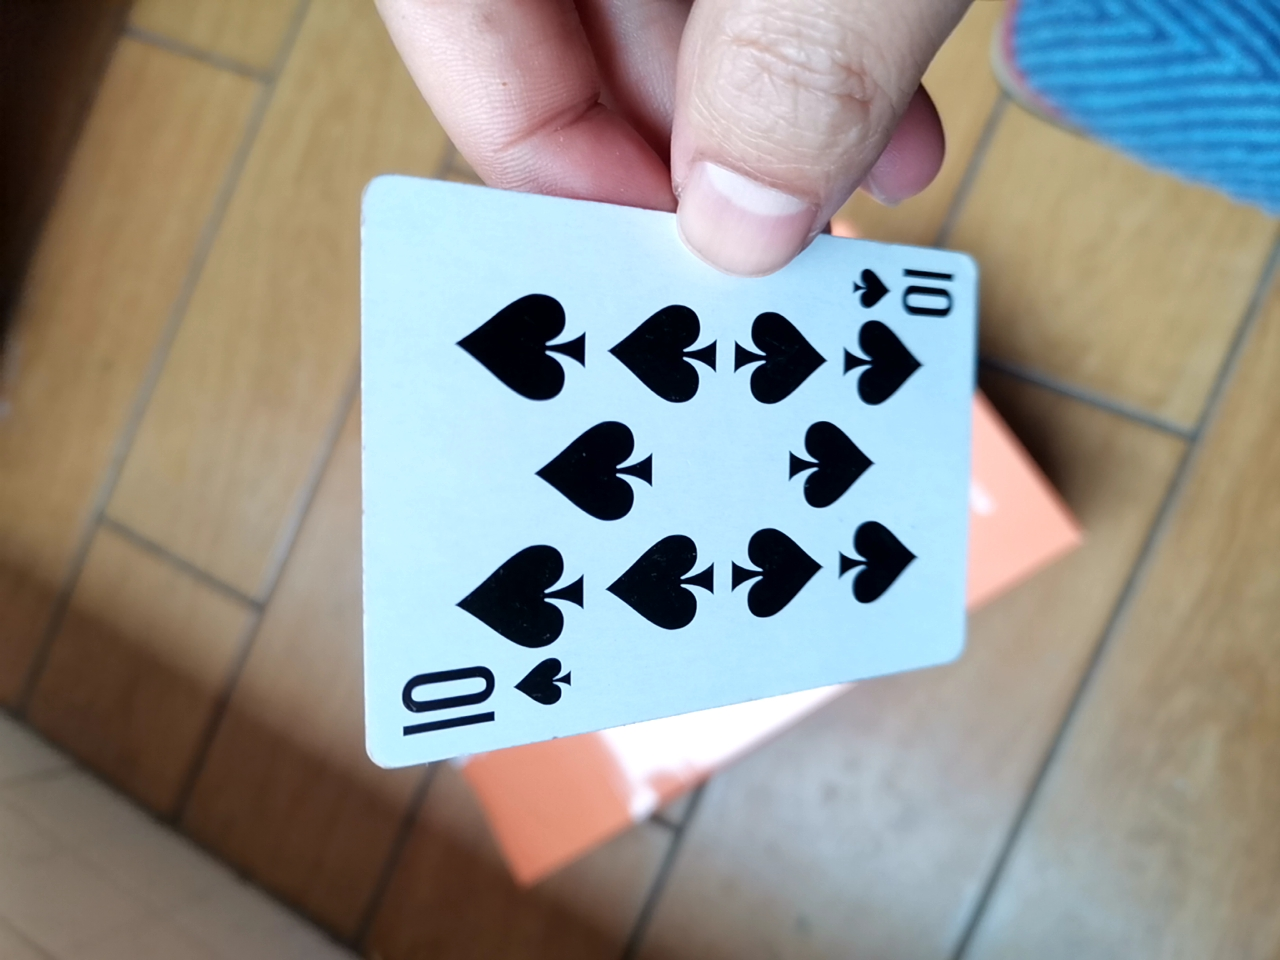ht 10: (335, 183, 991, 789)
